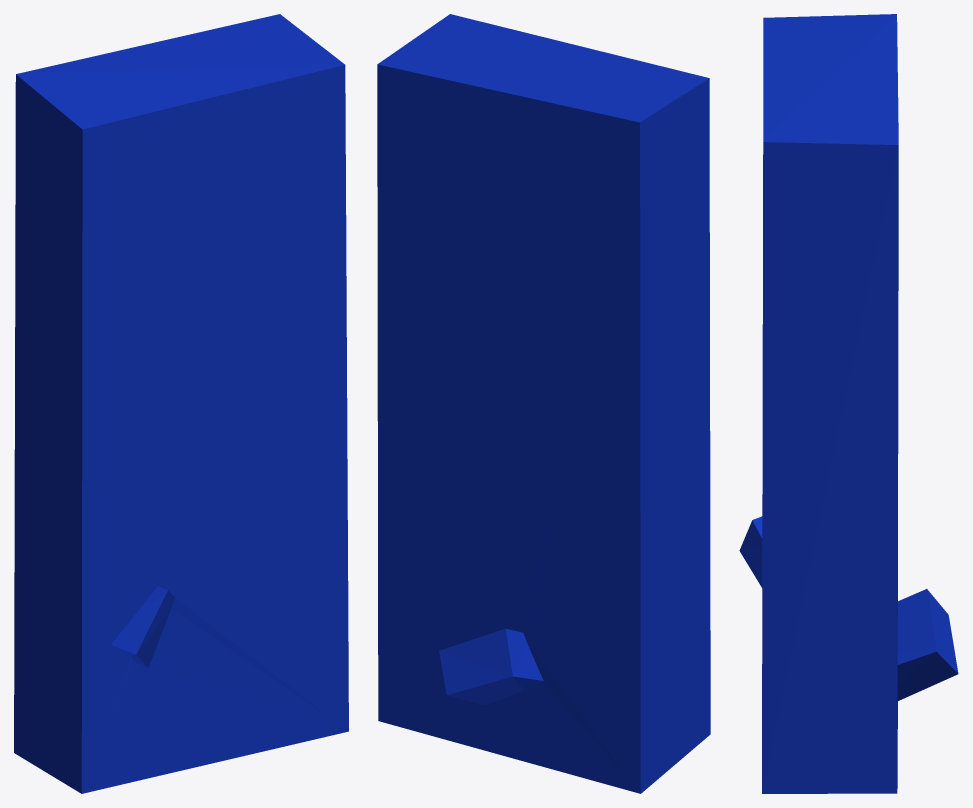
3 views of the same model, side by side, from view 1: azimuth 30°, elevation 25°; view 2: azimuth 150°, elevation 25°; view 3: azimuth 270°, elevation 25° (orthographic). The views are drawn at different scales.
Parts seen in each view (by area): view 1: 280_Cube.1146; view 2: 280_Cube.1146; view 3: 280_Cube.1146.
Part boxes in pixels (x1=…): 280_Cube.1146: x1=14, y1=14, x2=348, y2=793; 280_Cube.1146: x1=377, y1=14, x2=710, y2=793; 280_Cube.1146: x1=739, y1=14, x2=958, y2=793.
Size of the model in its own units: 5.01 by 12.14 by 3.64.
